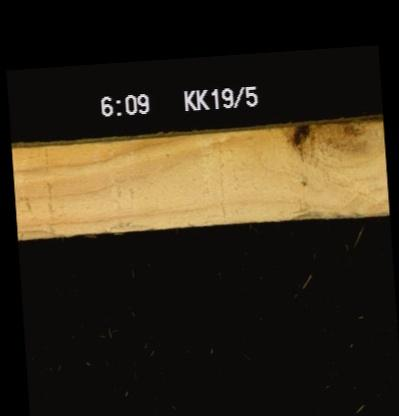wave: (280, 203, 364, 218), (102, 215, 155, 231), (16, 224, 66, 237)
